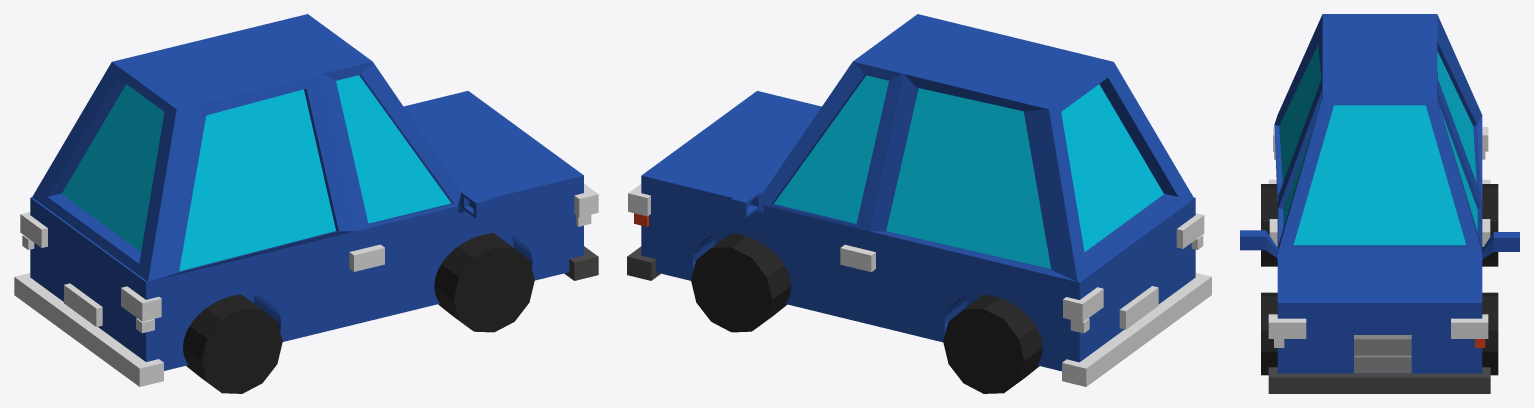
Rendered from Basic1.fbx.
3 renders of one model, left to right at view 1: azimuth 30°, elevation 25°; view 2: azimuth 150°, elevation 25°; view 3: azimuth 270°, elevation 25°, orthographic. The views are drawn at different scales.
Visible parts, largest first — view 1: Cube.020, Cylinder.007, Cylinder.011, Cube.028, Cube.027, Cube.030, Cube.032, Cube.034, Cube.022, Cube.029, Cube.039; view 2: Cube.020, Cylinder.019, Cylinder.010, Cube.028, Cube.030, Cube.029, Cube.031, Cube.033, Cube.022, Cube.027, Cube.023; view 3: Cube.020, Cube.022, Cube.026, Cylinder.019, Cylinder.007, Cube.025, Cylinder.011, Cylinder.010, Cube.039, Cube.023, Cube.034, Cube.033.
Part boxes in pixels (bbox=[...]): Cube.020: bbox=[30, 14, 583, 370]; Cylinder.007: bbox=[434, 233, 534, 332]; Cylinder.011: bbox=[183, 294, 282, 393]; Cube.028: bbox=[14, 273, 163, 386]; Cube.027: bbox=[121, 286, 161, 321]; Cube.030: bbox=[64, 283, 102, 326]; Cube.032: bbox=[349, 244, 384, 271]; Cube.034: bbox=[458, 189, 490, 218]; Cube.022: bbox=[564, 246, 598, 280]; Cube.029: bbox=[20, 212, 47, 247]; Cube.039: bbox=[574, 184, 598, 217]; Cube.020: bbox=[641, 14, 1195, 371]; Cylinder.019: bbox=[691, 233, 791, 332]; Cylinder.010: bbox=[943, 294, 1042, 393]; Cube.028: bbox=[1062, 273, 1211, 386]; Cube.030: bbox=[1119, 286, 1158, 329]; Cube.029: bbox=[1063, 287, 1103, 322]; Cube.031: bbox=[840, 244, 875, 272]; Cube.033: bbox=[731, 188, 763, 218]; Cube.022: bbox=[627, 246, 660, 280]; Cube.027: bbox=[1176, 213, 1204, 248]; Cube.023: bbox=[628, 184, 650, 216]; Cube.020: bbox=[1274, 14, 1482, 373]; Cube.022: bbox=[1268, 367, 1490, 393]; Cube.026: bbox=[1354, 335, 1411, 355]; Cylinder.019: bbox=[1482, 292, 1498, 375]; Cylinder.007: bbox=[1261, 292, 1277, 375]; Cube.025: bbox=[1354, 355, 1411, 373]; Cylinder.011: bbox=[1261, 184, 1277, 266]; Cylinder.010: bbox=[1482, 184, 1498, 266]; Cube.039: bbox=[1268, 314, 1306, 338]; Cube.023: bbox=[1451, 314, 1488, 338]; Cube.034: bbox=[1240, 230, 1277, 258]; Cube.033: bbox=[1482, 232, 1519, 259].
Bounding box in the file's own units: 681 × 378 × 406.
